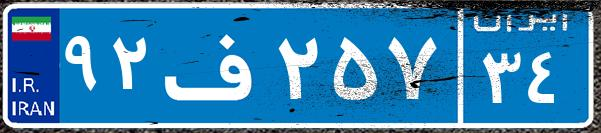2: (273, 28, 330, 110), (110, 28, 158, 105)
3: (475, 38, 525, 113)
4: (525, 38, 570, 115)
5: (330, 28, 385, 110)
7: (385, 28, 445, 110)
9: (57, 26, 110, 107)
ف: (158, 15, 273, 115)
